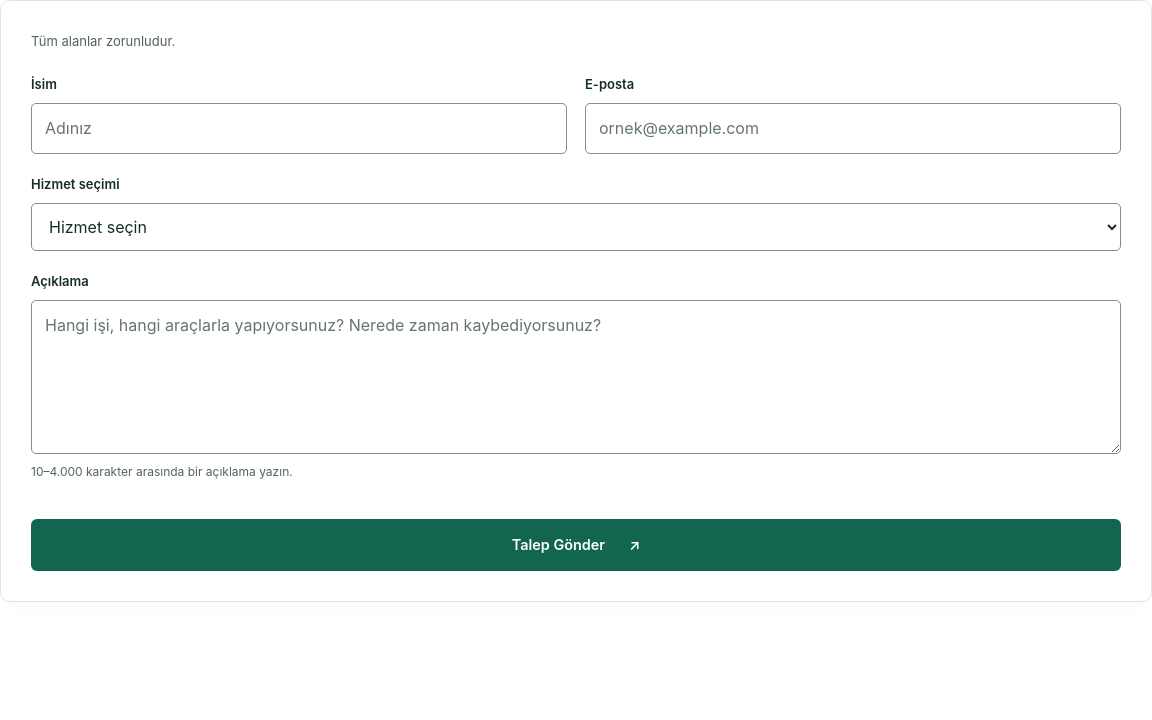
Test: Request form API integration (mocked fetch) › shows loading, disables sending, blocks duplicate submits and waits for a real 201
Type "Sprint Five Test" into the field labelled "İsim".
click(299, 128); type("Sprint Five Test")  # box [31,103,567,154]
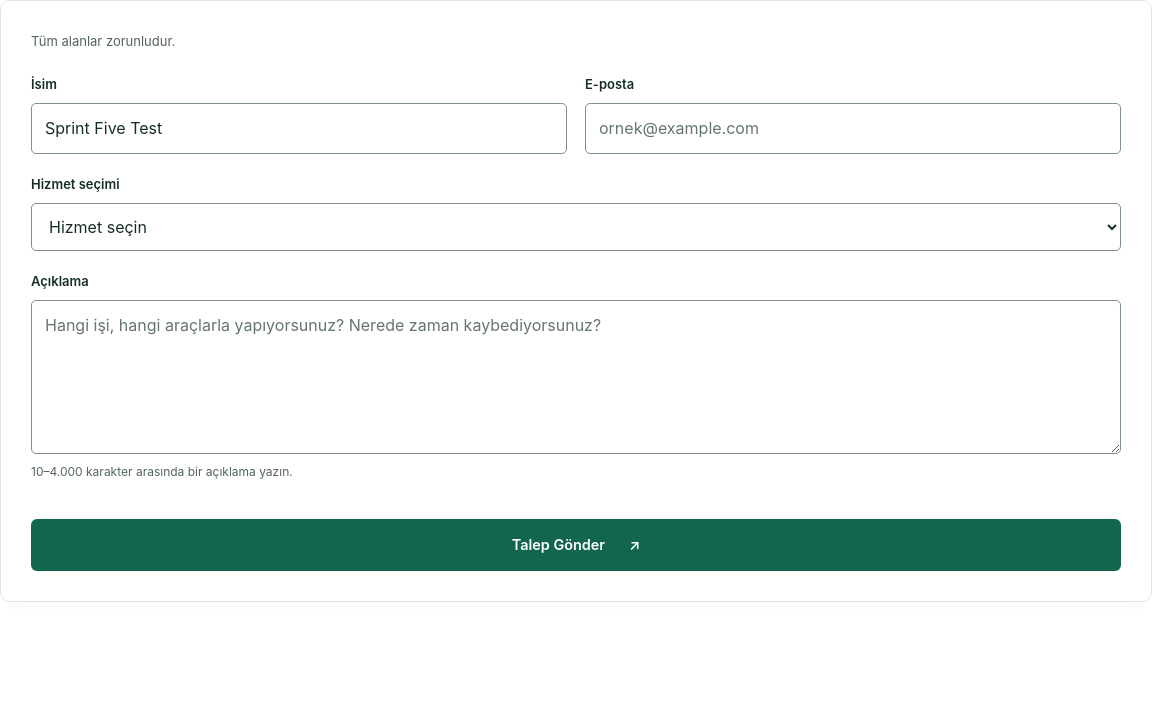
Type "sprint5@example.com" into the field labelled "E-posta".
click(853, 128); type("sprint5@example.com")  # box [585,103,1121,154]
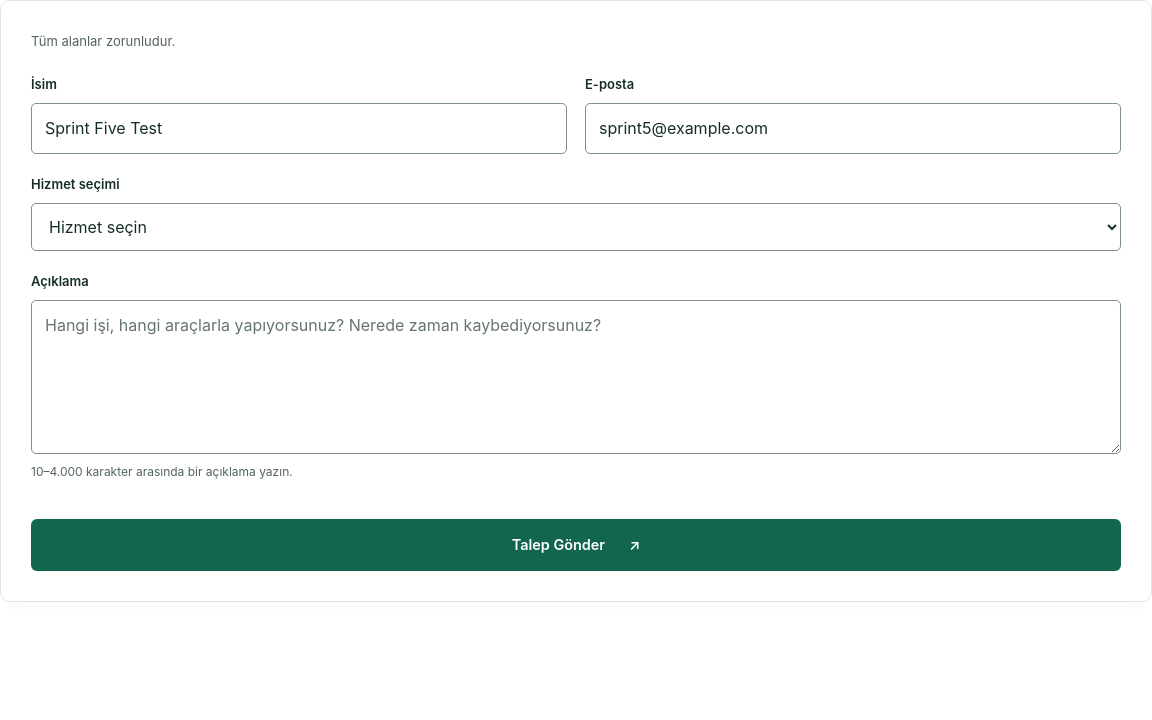
Select "İş Akışı Otomasyonu" in the dropdown labelled "Hizmet seçimi" at coordinates (576, 227), box [31,203,1121,251]
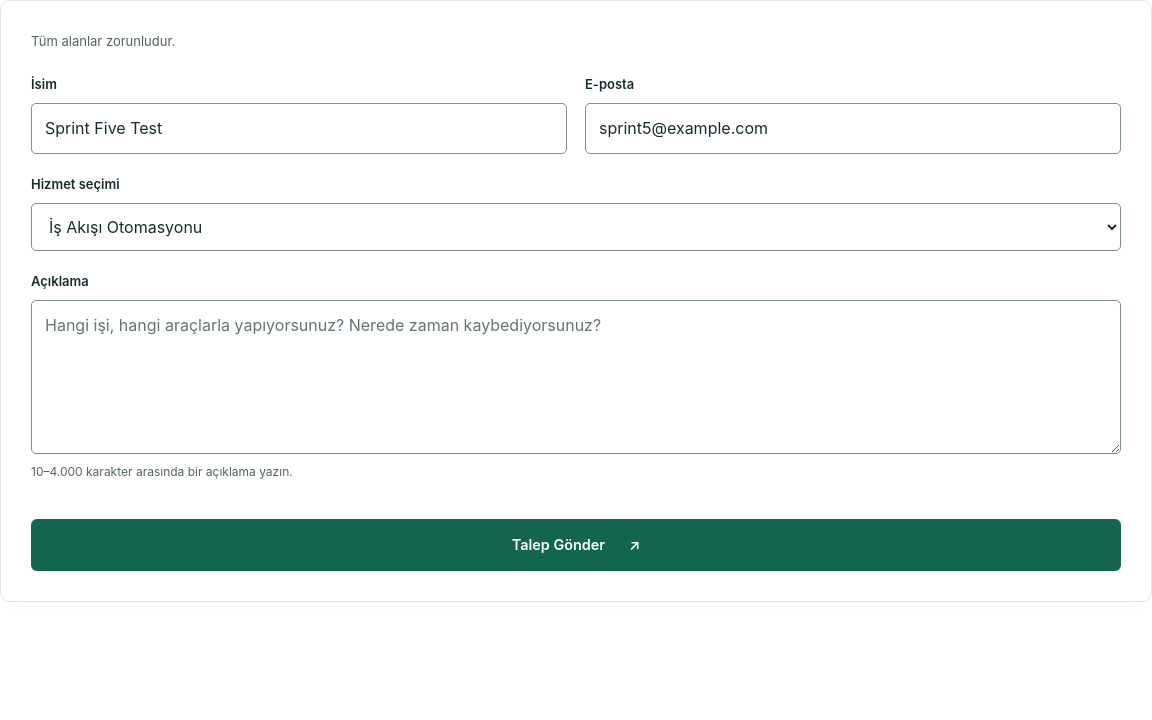
Replace the text in the text box labelled "Açıklama" with "This is a fictional request created for the FlowPilot technical evaluation." at coordinates (576, 377), box [31,300,1121,454]
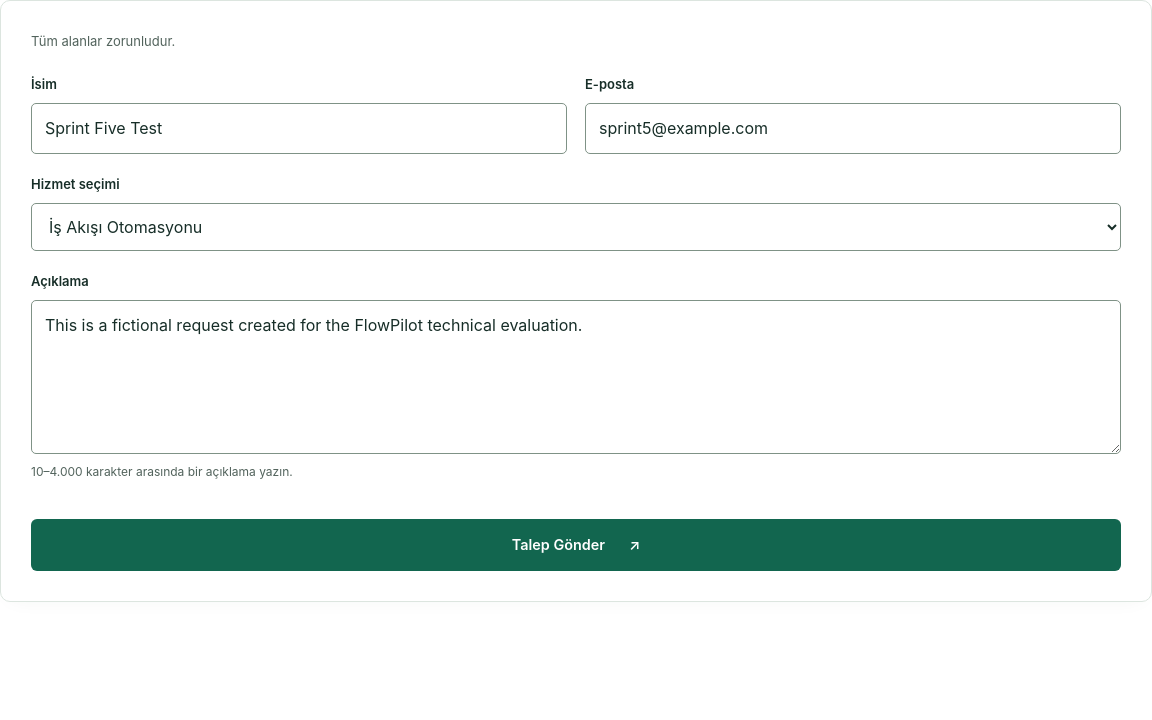
Click the button "Talep Gönder ↗".
click(576, 545)  # box [31,519,1121,571]
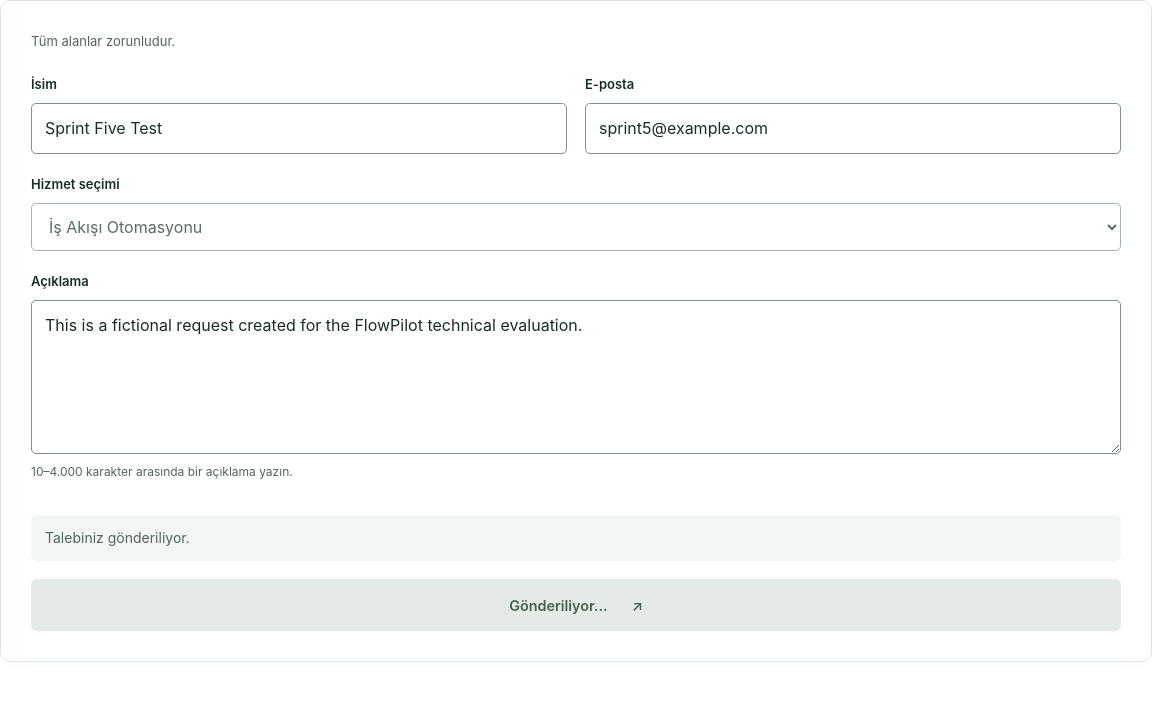
Expected: the text "Talebiniz alındı. En kısa sürede sizinle iletişime geçeceğiz." is not shown
Expected: the button "Gönderiliyor... ↗" is disabled, [31,579,1121,631]
Expected: the message reads "Talebiniz gönderiliyor.", [45,529,190,546]
Submit the form named "Projenizi anlatın"
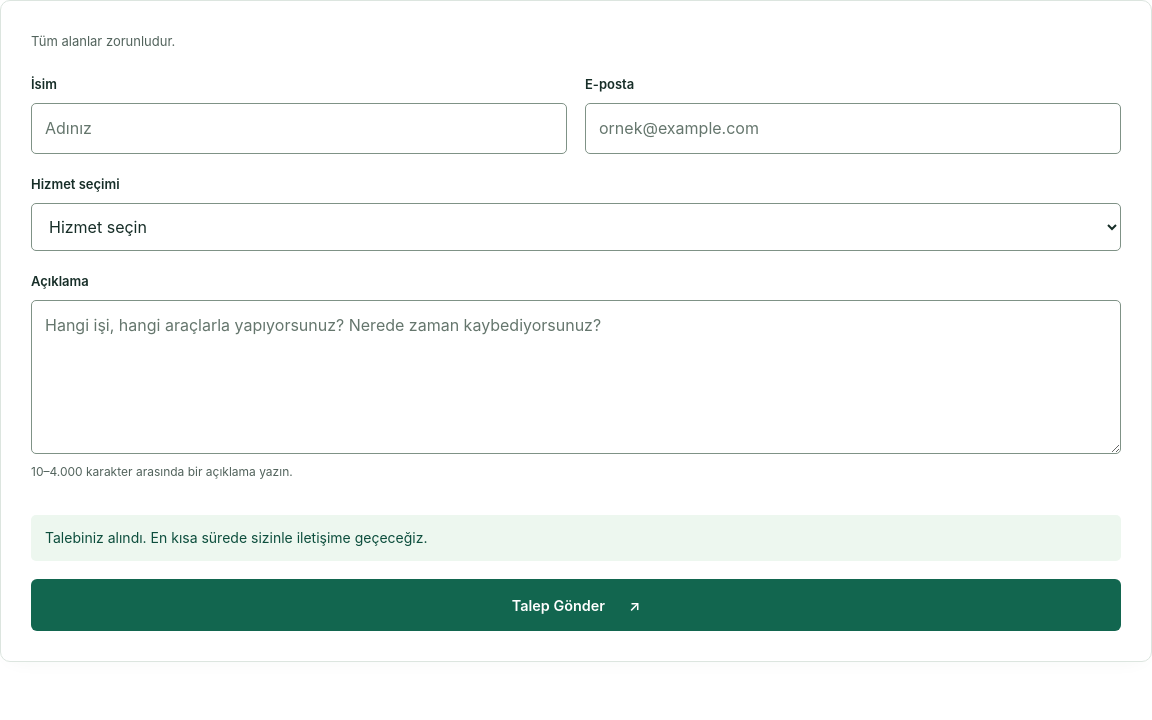
Expected: the text "Talebiniz alındı. En kısa sürede sizinle iletişime geçeceğiz." is shown, [31,515,1121,561]
Expected: the button "Talep Gönder ↗" is enabled, [31,579,1121,631]
Expected: the field labelled "İsim" is empty, [31,103,567,154]
